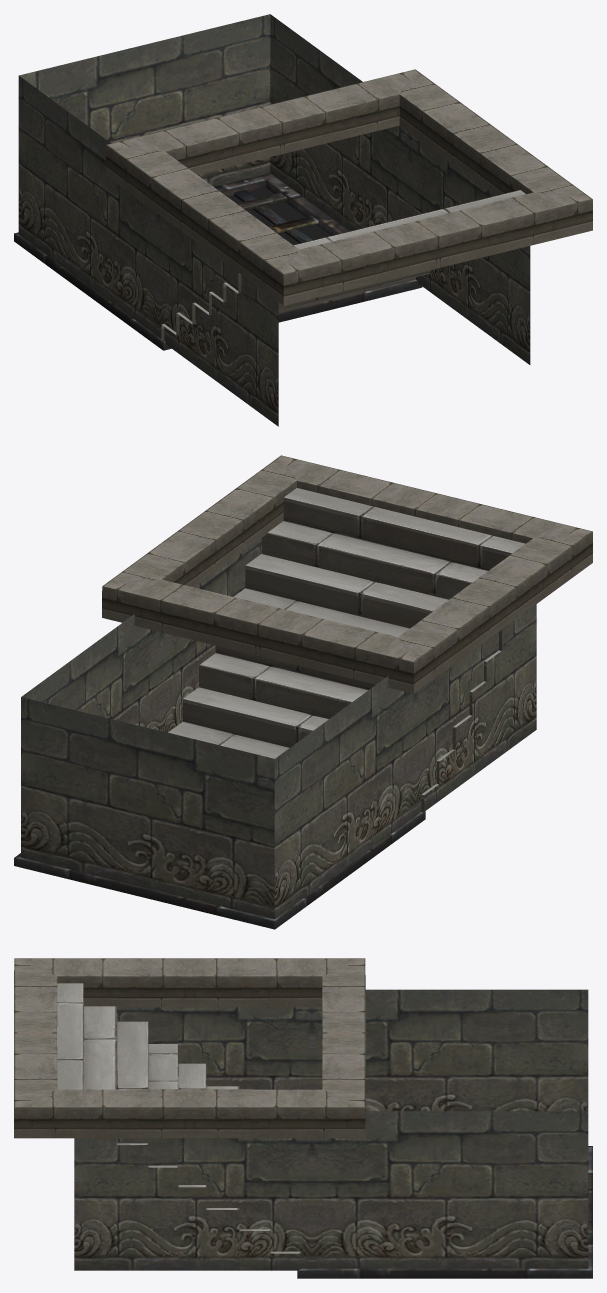
File: Maincity06_Object_Dl.FBX
The picture shows the model from 3 angles, top to bottom: view 1: azimuth 30°, elevation 25°; view 2: azimuth 150°, elevation 25°; view 3: azimuth 270°, elevation 25°; orthographic projection.
Visible parts, largest first — view 1: Maincity06_Object_Dl; view 2: Maincity06_Object_Dl; view 3: Maincity06_Object_Dl.
Part boxes in pixels (x1,y1,x2,y2): Maincity06_Object_Dl: (14, 14, 592, 426); Maincity06_Object_Dl: (14, 455, 592, 929); Maincity06_Object_Dl: (14, 958, 592, 1278).
Size of the model in its own units: 507 by 292 by 831.
